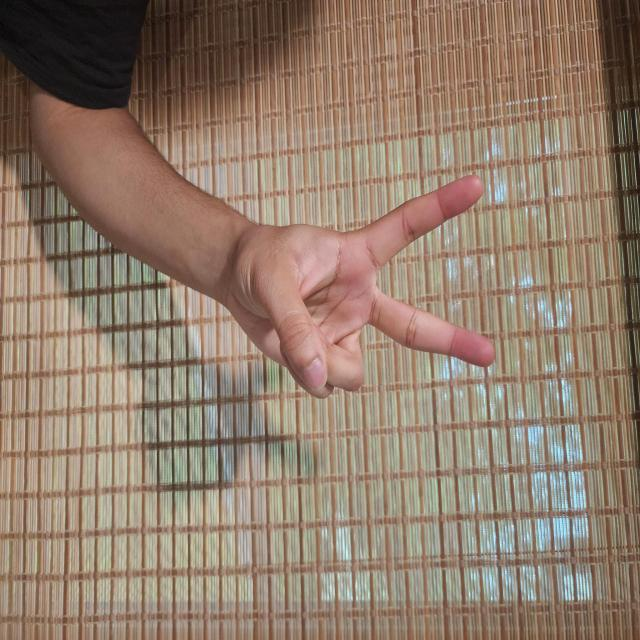V: (286, 188, 462, 559)
